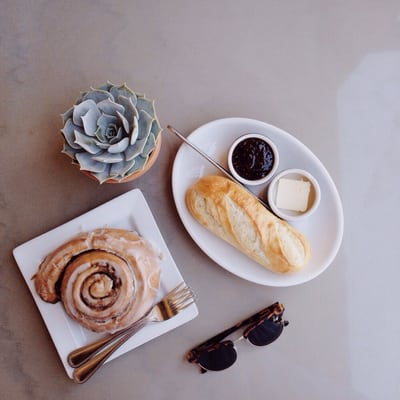burger: (67, 281, 198, 382)
pizza: (267, 168, 321, 221)
salad: (168, 123, 317, 267)
